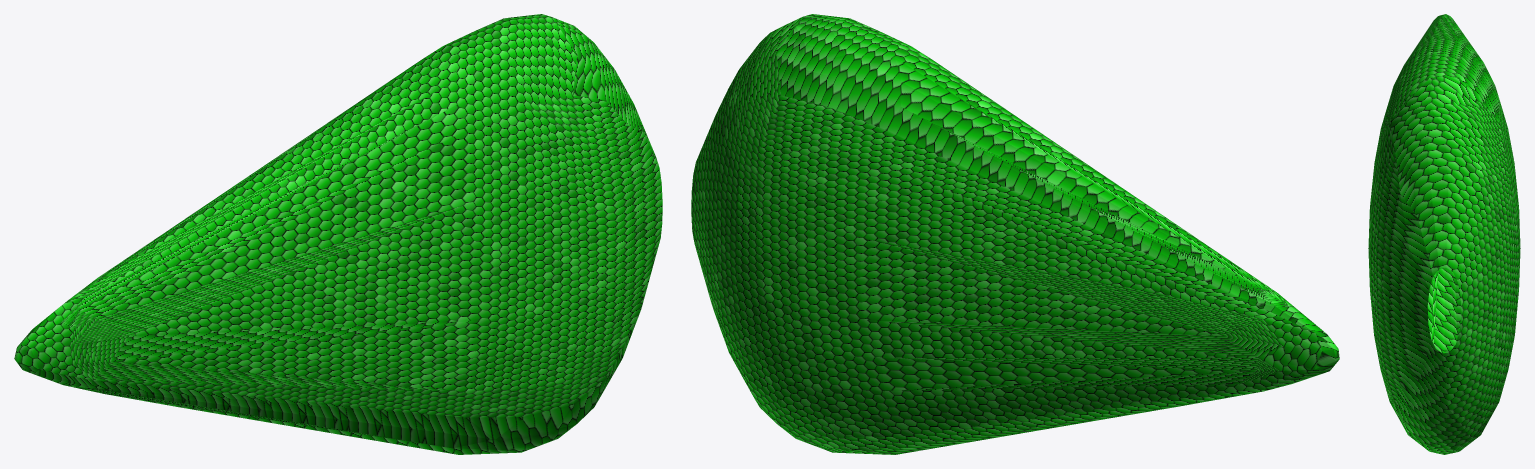
Rendered from Fish5_2.dae.
3 renders of one model, left to right at view 1: azimuth 30°, elevation 25°; view 2: azimuth 150°, elevation 25°; view 3: azimuth 270°, elevation 25°, orthographic. The views are drawn at different scales.
Visible parts, largest first — view 1: Cube_Cube_001; view 2: Cube_Cube_001; view 3: Cube_Cube_001.
Part boxes in pixels (box(x1,y1,x2,y2)): Cube_Cube_001: box(14, 14, 662, 454); Cube_Cube_001: box(691, 14, 1339, 454); Cube_Cube_001: box(1368, 14, 1520, 454).
Size of the model in its own units: 6.89 by 1.57 by 4.42.
Materials: 1 (1 with a texture image).
